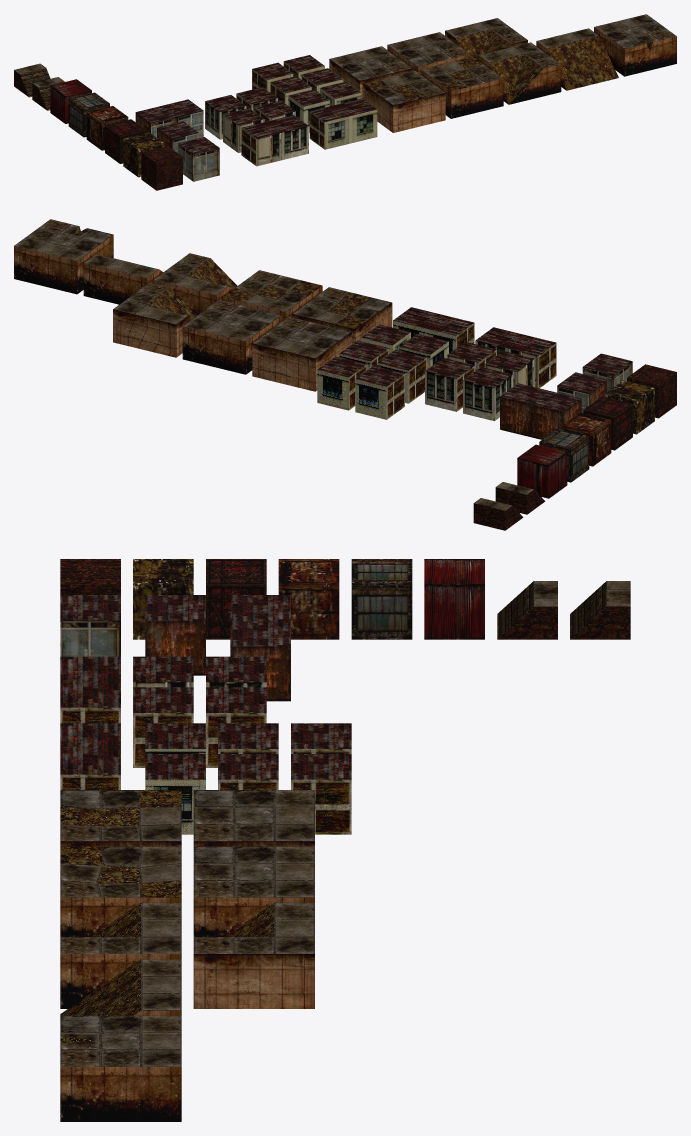
Rendered from blocks-tilesheet.glb.
3 renders of one model, top to bottom at view 1: azimuth 30°, elevation 25°; view 2: azimuth 150°, elevation 25°; view 3: azimuth 270°, elevation 25°, orthographic. The views are drawn at different scales.
Visible parts, largest first — view 1: block-concrete-wall-col.008, block-concrete-wall-col.005, block-concrete-wall-col.006, block-concrete-wall-col.007, block-concrete-wall-col.004, high-wh-window-double-col, highrise-double-col, block-concrete-wall-col.002, block-concrete-wall-col.003, block-concrete-wall-col.001, storefront-double-col, block-brick-col (+19 smaller); view 2: block-concrete-wall-col.005, block-concrete-wall-col.002, block-concrete-wall-col.001, block-concrete-wall-col.003, storefront-double-col, block-concrete-wall-col.008, block-concrete-wall-col.007, block-concrete-wall-col.006, block-concrete-wall-col.004, high-wh-window2-col, block-warehouse-col, highrise-double-col (+19 smaller); view 3: block-concrete-wall-col.005, block-concrete-wall-col.003, block-concrete-wall-col.001, block-concrete-wall-col.007, block-concrete-wall-col.006, block-concrete-wall-col.008, block-concrete-wall-col.002, block-window-col, block-warehouse-col, storefront-double-col, block-concrete-wall-col.004, block-concrete-col (+19 smaller).
Boxes of the visible parts, left/top/right/bottom form: block-concrete-wall-col.008: left=362, top=70, right=445, bottom=132; block-concrete-wall-col.005: left=594, top=14, right=676, bottom=76; block-concrete-wall-col.006: left=478, top=42, right=561, bottom=104; block-concrete-wall-col.007: left=420, top=56, right=503, bottom=118; block-concrete-wall-col.004: left=536, top=28, right=618, bottom=90; high-wh-window-double-col: left=309, top=98, right=377, bottom=149; highrise-double-col: left=241, top=115, right=308, bottom=166; block-concrete-wall-col.002: left=329, top=46, right=412, bottom=98; block-concrete-wall-col.003: left=445, top=18, right=527, bottom=59; block-concrete-wall-col.001: left=387, top=32, right=469, bottom=73; storefront-double-col: left=135, top=99, right=203, bottom=138; block-brick-col: left=141, top=146, right=182, bottom=190; block-concrete-wall-col.005: left=14, top=219, right=113, bottom=294; block-concrete-wall-col.002: left=252, top=316, right=351, bottom=391; block-concrete-wall-col.001: left=182, top=299, right=282, bottom=374; block-concrete-wall-col.003: left=113, top=282, right=197, bottom=357; storefront-double-col: left=500, top=383, right=581, bottom=439; block-concrete-wall-col.008: left=292, top=287, right=392, bottom=343; block-concrete-wall-col.007: left=222, top=270, right=322, bottom=320; block-concrete-wall-col.006: left=153, top=253, right=237, bottom=314; block-concrete-wall-col.004: left=83, top=254, right=163, bottom=304; high-wh-window2-col: left=355, top=365, right=404, bottom=419; block-warehouse-col: left=517, top=444, right=567, bottom=498; highrise-double-col: left=475, top=327, right=556, bottom=388; block-concrete-wall-col.005: left=60, top=1015, right=181, bottom=1121; block-concrete-wall-col.003: left=193, top=902, right=314, bottom=1008; block-concrete-wall-col.001: left=193, top=846, right=314, bottom=936; block-concrete-wall-col.007: left=60, top=846, right=181, bottom=936; block-concrete-wall-col.006: left=60, top=902, right=181, bottom=1008; block-concrete-wall-col.008: left=60, top=790, right=181, bottom=846; block-concrete-wall-col.002: left=193, top=790, right=314, bottom=846; block-window-col: left=351, top=559, right=412, bottom=639; block-warehouse-col: left=424, top=559, right=484, bottom=639; storefront-double-col: left=230, top=595, right=290, bottom=701; block-concrete-wall-col.004: left=60, top=959, right=181, bottom=1015; block-concrete-col: left=278, top=559, right=339, bottom=639.
Size of the model in its own units: 99 by 5 by 47.
Materials: 13 (13 with a texture image).
